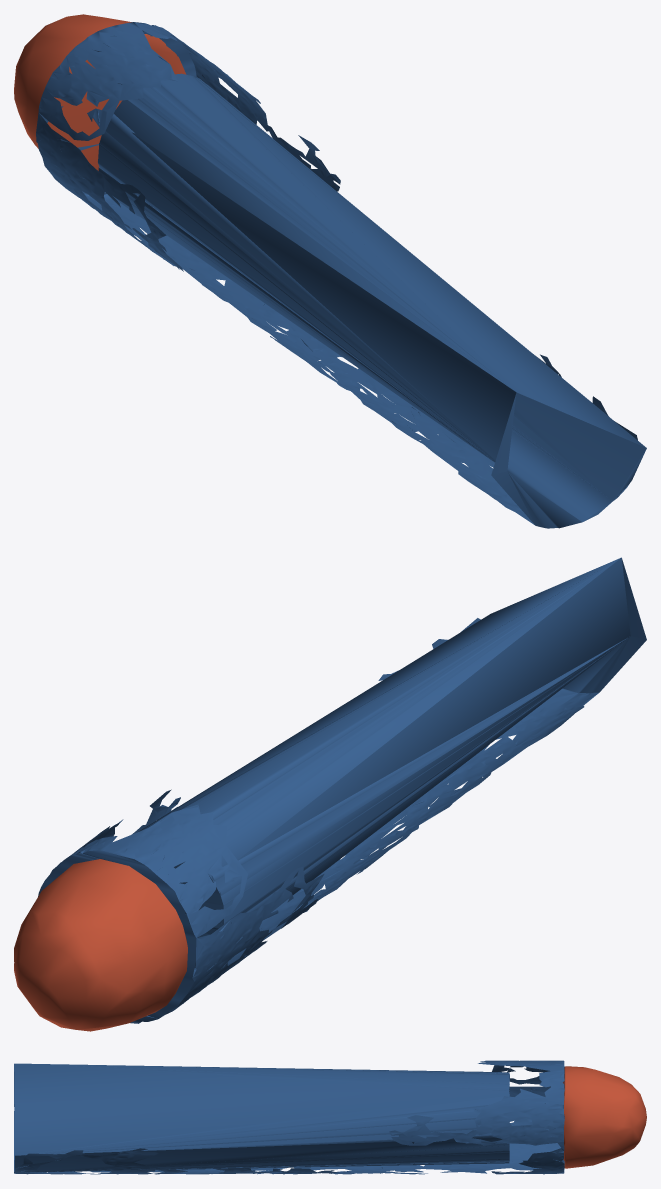
File: dart.glb
3 renders of one model, top to bottom at view 1: azimuth 30°, elevation 25°; view 2: azimuth 150°, elevation 25°; view 3: azimuth 270°, elevation 25°, orthographic. The views are drawn at different scales.
Visible parts, largest first — view 1: Cylinder_2, Cylinder.001_1; view 2: Cylinder_2, Cylinder.001_1; view 3: Cylinder_2, Cylinder.001_1.
Boxes of the visible parts, <box> form: Cylinder_2: <box>36,22,646,528</box>; Cylinder.001_1: <box>14,14,186,170</box>; Cylinder_2: <box>38,557,646,1023</box>; Cylinder.001_1: <box>14,859,187,1031</box>; Cylinder_2: <box>14,1060,564,1174</box>; Cylinder.001_1: <box>563,1066,646,1168</box>.
Size of the model in its own units: 0.0129 by 0.0129 by 0.0714.
